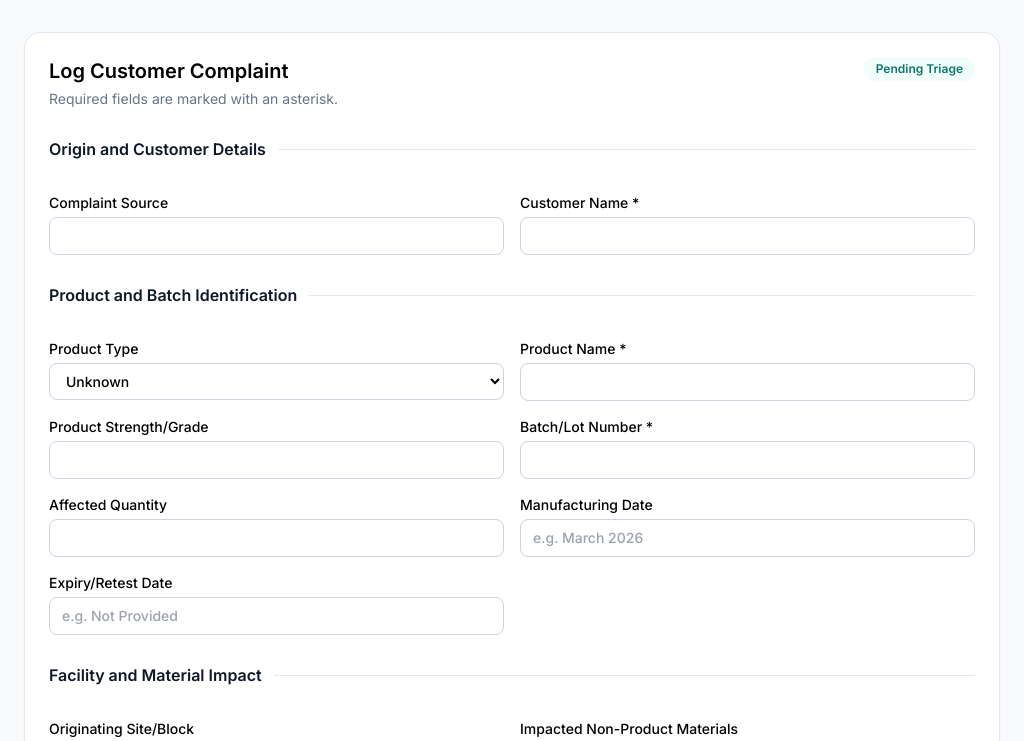
Test: ComplaintWorkspace › renders the complete form and accessible validation
Expected: the text "Origin and Customer Details" is shown, [49,137,278,161]
Type "x" into the field labelled "Customer Name *" at (748, 236), box [520,217,975,255]
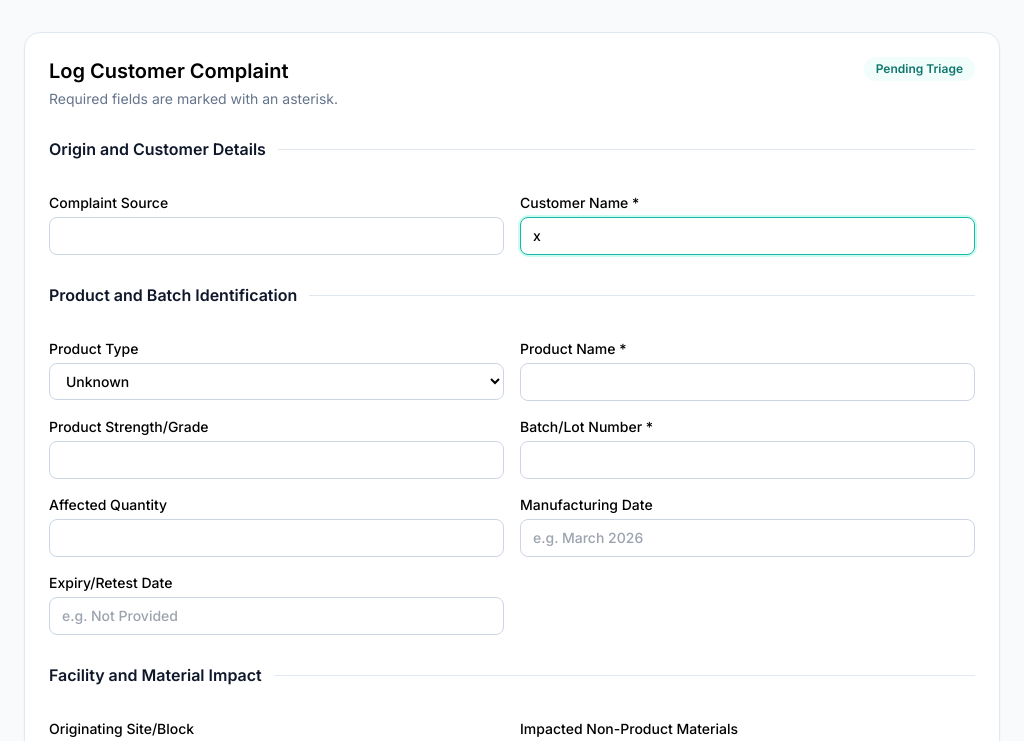
Clear the field labelled "Customer Name *" at (748, 236), box [520,217,975,255]
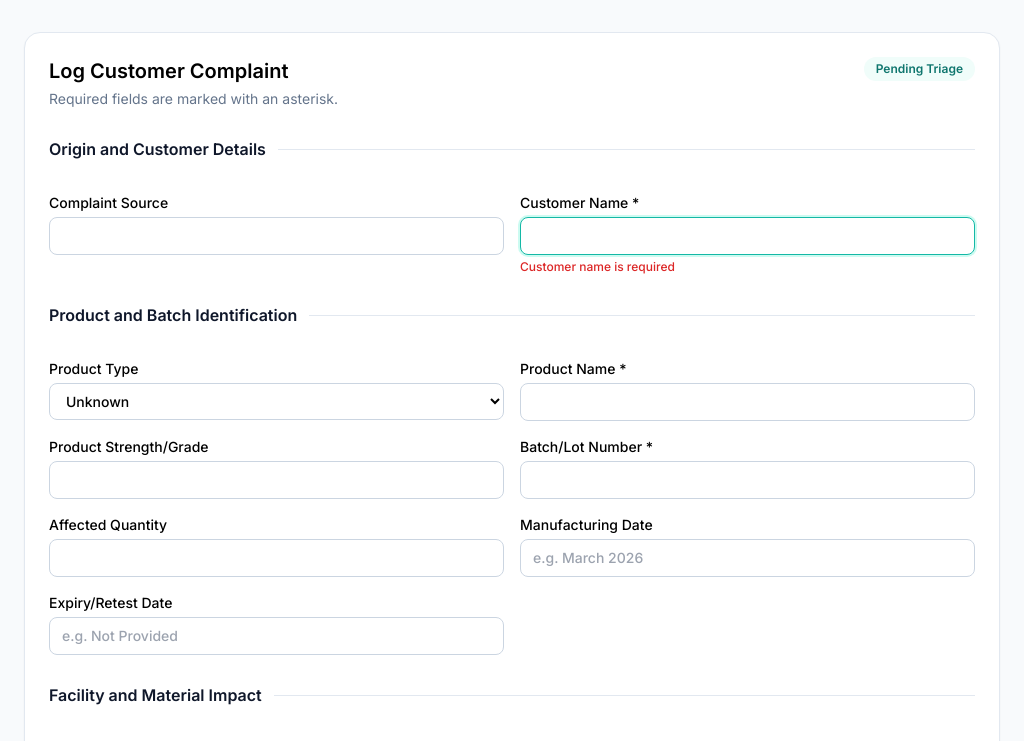
Expected: the text "Pending Triage" is shown, [864,57,975,81]
Expected: the text "Customer name is required" is shown, [520,259,675,274]
